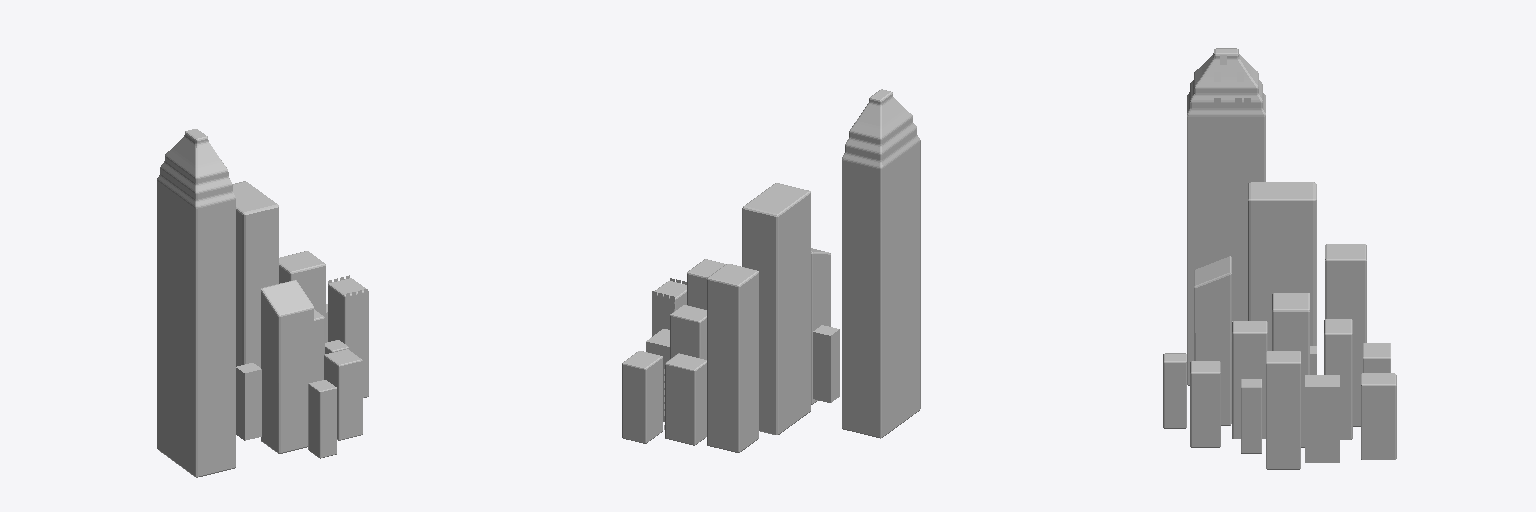
Rendered from BakcgroundBuildings.obj.
The picture shows the model from 3 angles: view 1: azimuth 30°, elevation 25°; view 2: azimuth 150°, elevation 25°; view 3: azimuth 270°, elevation 25°; orthographic projection.
Parts seen in each view (by area): view 1: group1 Building, Light group1; view 2: group1 Building, Light group1; view 3: group1 Building, Light group1.
Part boxes in pixels (x1,y1,x2,y2): group1 Building: (157, 129, 368, 477); Light group1: (328, 275, 367, 377); group1 Building: (622, 89, 920, 452); Light group1: (652, 278, 686, 429); group1 Building: (1163, 48, 1396, 469); Light group1: (1167, 55, 1389, 457).
Bounding box in the file's own units: 44.5 × 64.98 × 42.09.